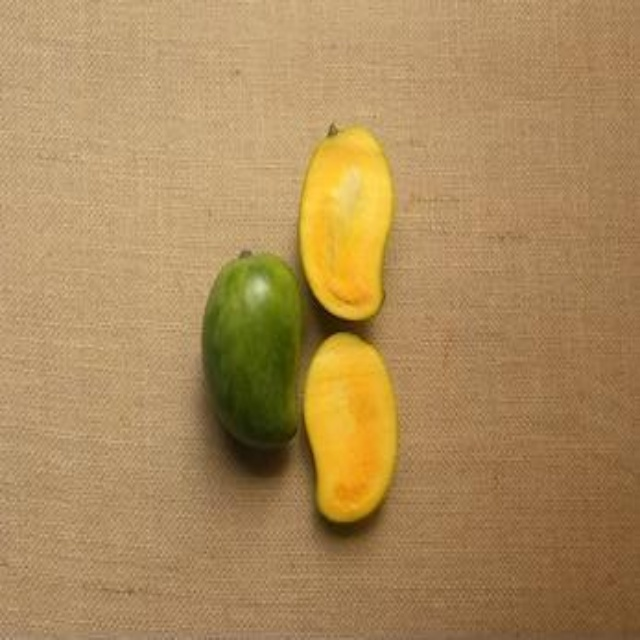mango: (203, 252, 315, 454), (298, 122, 397, 324), (309, 333, 402, 525)
